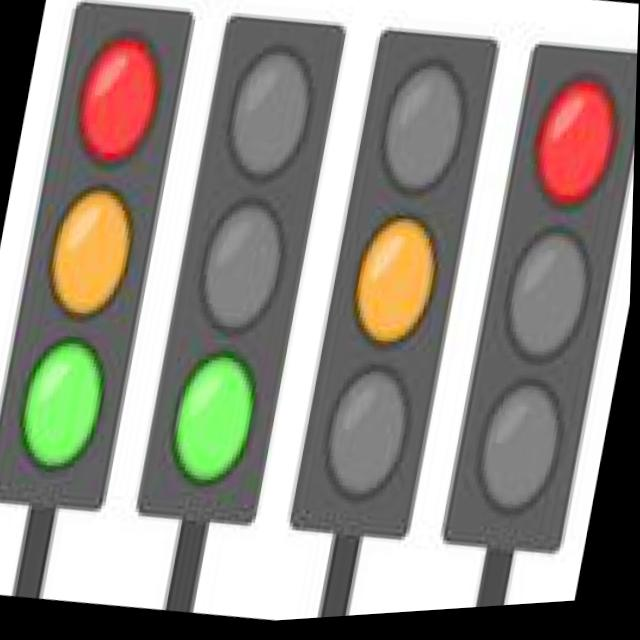green_light: (0, 321, 148, 499), (154, 348, 315, 509)
red_light: (488, 59, 638, 236), (44, 10, 192, 183)
yellow_light: (11, 159, 161, 337), (337, 211, 457, 379)
